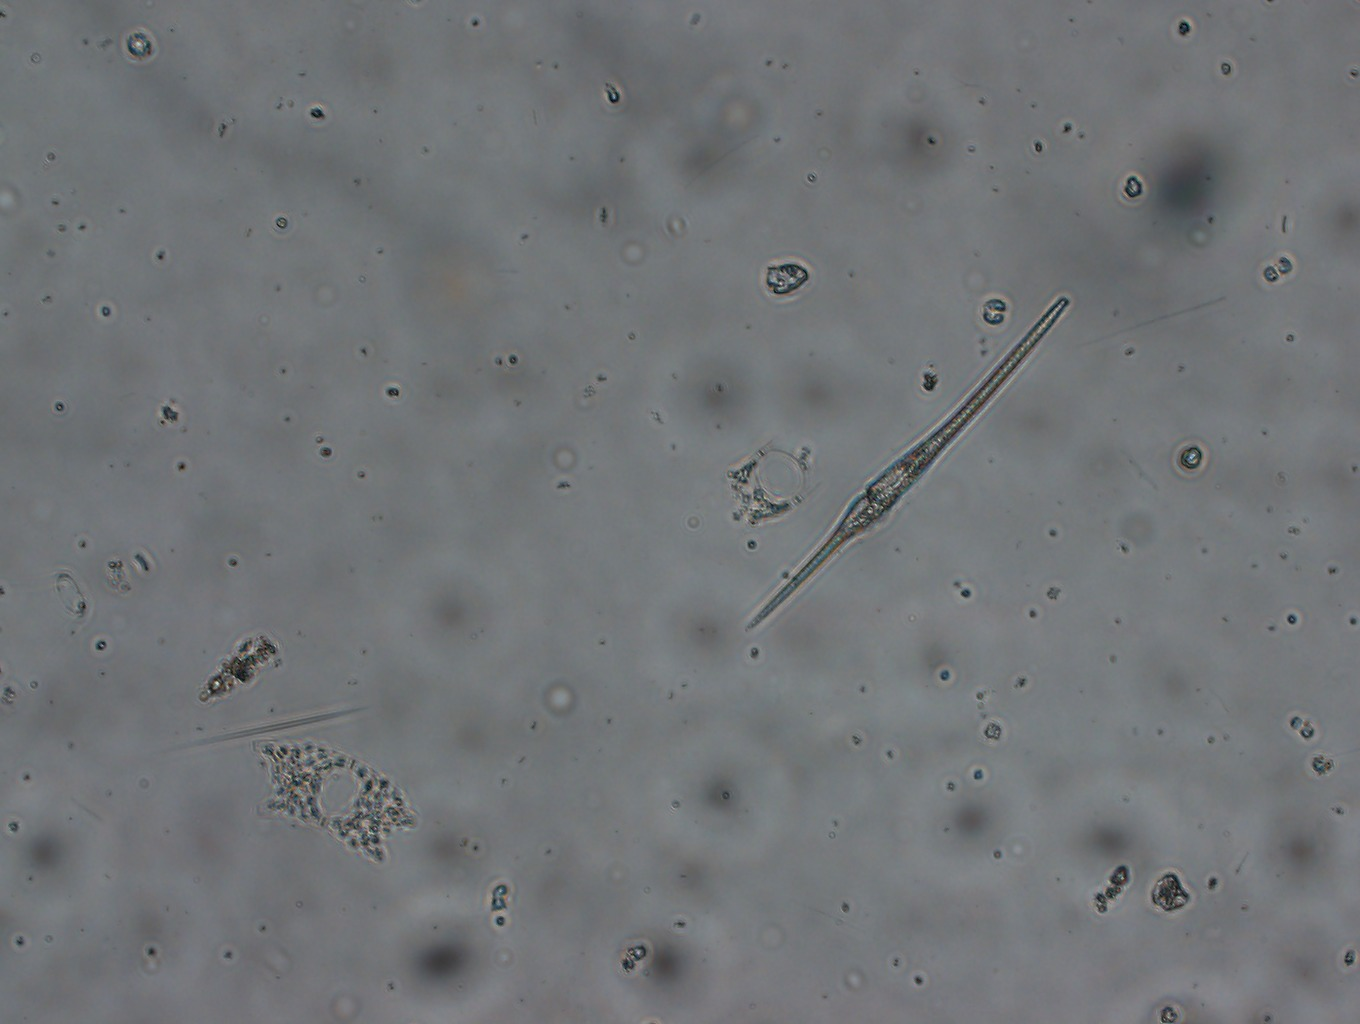ceratium fusus: (740, 290, 1085, 635)
